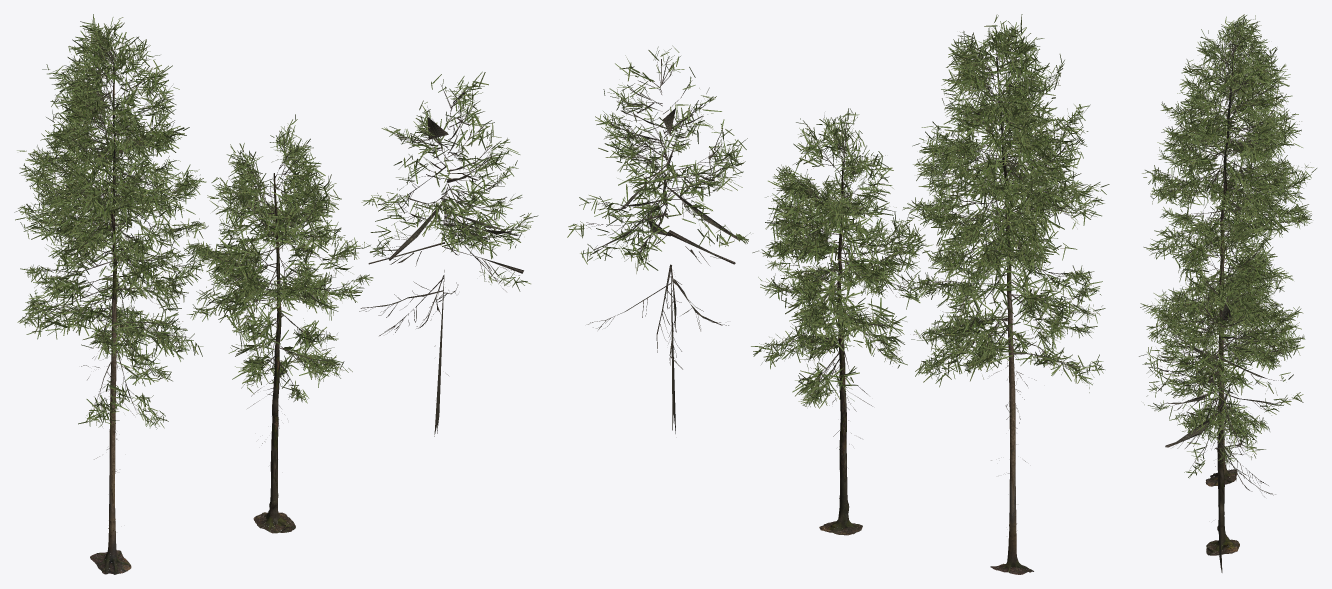
The model's file is fir_mid.glb.
3 views of the same model, side by side, from view 1: azimuth 30°, elevation 25°; view 2: azimuth 150°, elevation 25°; view 3: azimuth 270°, elevation 25° (orthographic). The views are drawn at different scales.
Visible parts, largest first — view 1: fir_tree_01_a_LOD0, fir_tree_01_b_LOD0, fir_tree_01_c_LOD0; view 2: fir_tree_01_a_LOD0, fir_tree_01_b_LOD0, fir_tree_01_c_LOD0; view 3: fir_tree_01_a_LOD0, fir_tree_01_b_LOD0, fir_tree_01_c_LOD0.
Part boxes in pixels (box(x1,y1,x2,y2)): fir_tree_01_a_LOD0: box(14, 14, 213, 574); fir_tree_01_b_LOD0: box(183, 114, 373, 533); fir_tree_01_c_LOD0: box(359, 71, 538, 436); fir_tree_01_a_LOD0: box(902, 14, 1109, 574); fir_tree_01_b_LOD0: box(751, 108, 941, 535); fir_tree_01_c_LOD0: box(567, 45, 750, 433); fir_tree_01_a_LOD0: box(1142, 14, 1316, 486); fir_tree_01_b_LOD0: box(1140, 209, 1305, 555); fir_tree_01_c_LOD0: box(1139, 268, 1303, 572).
Size of the model in its own units: 18.72 by 19 by 6.63.
6 materials, 6 textured.
